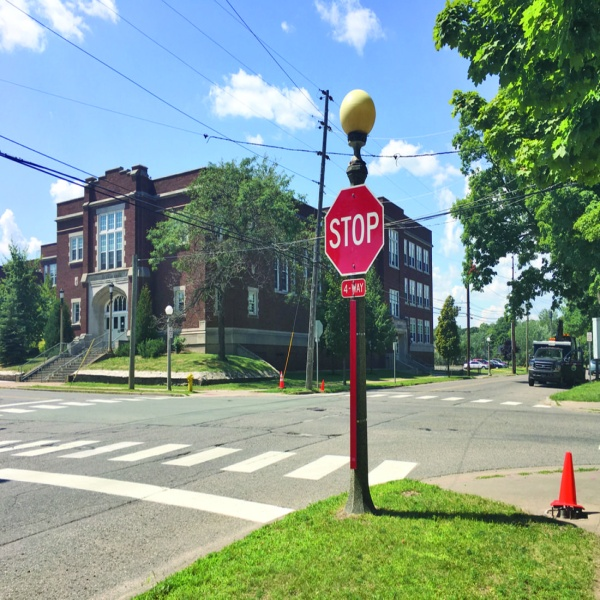stop: (327, 175, 384, 279)
